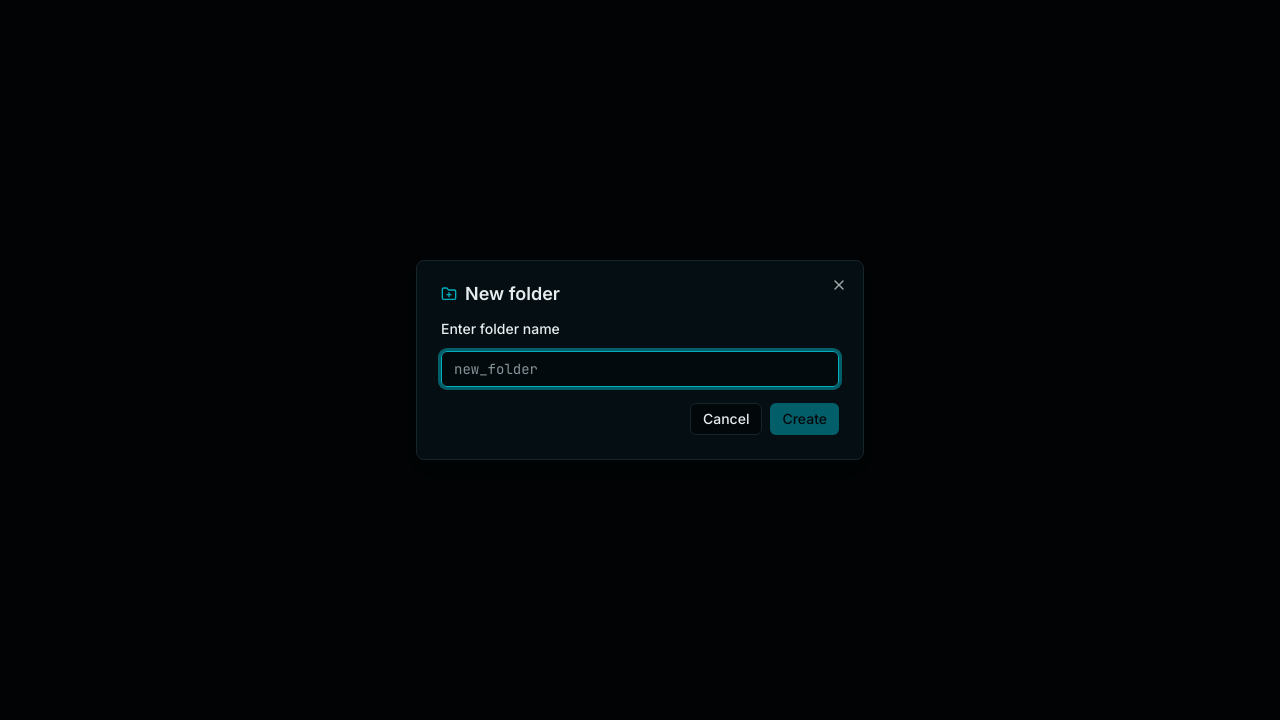
Test: CreateFolderDialog › should enable create button when name is entered
The width and height of the screenshot is (1280, 720).
Type "new-folder" into the field with placeholder "new_folder" at (640, 369), box [441, 351, 839, 387]
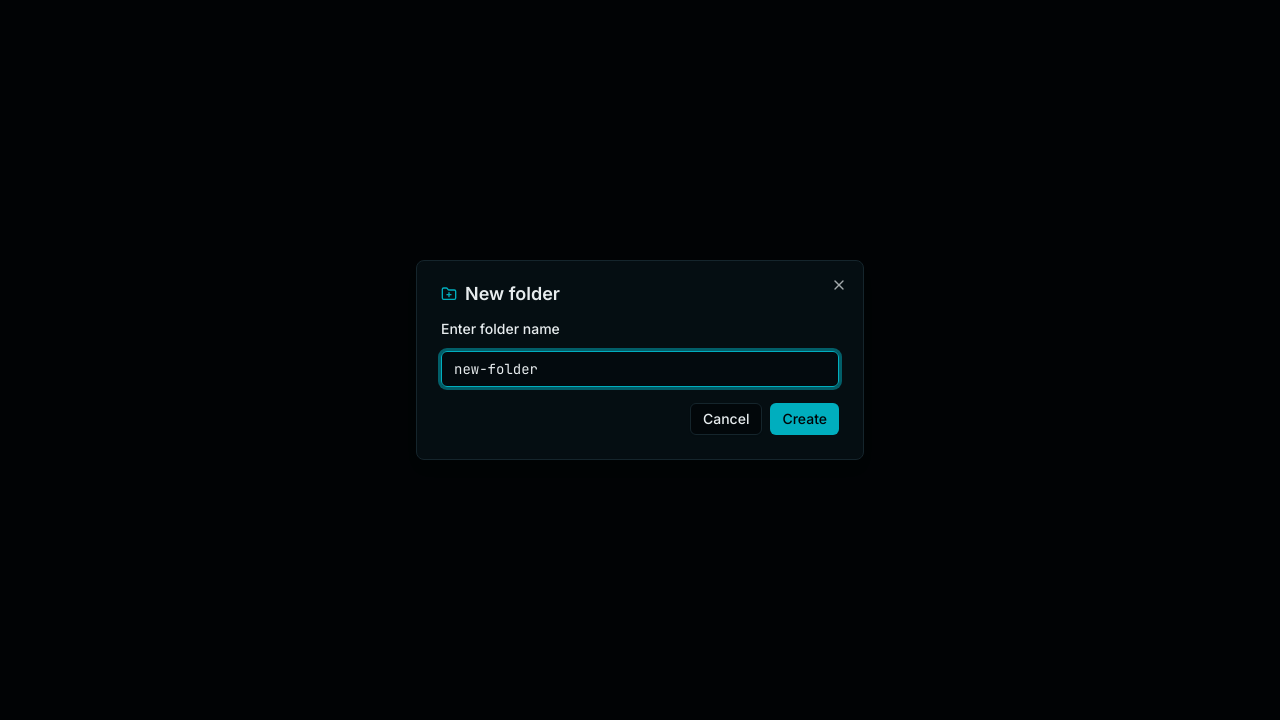
Expected: the button "Create" is enabled, [770, 403, 839, 435]
